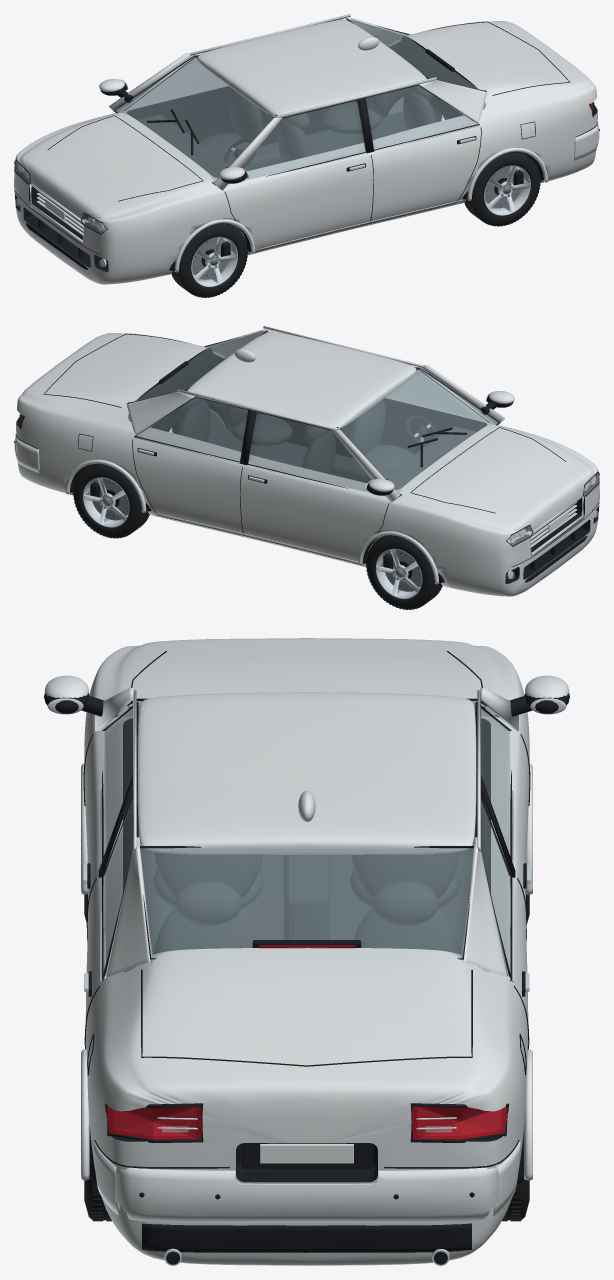
The model's file is sedan.glb.
The picture shows the model from 3 angles, top to bottom: view 1: azimuth 30°, elevation 25°; view 2: azimuth 150°, elevation 25°; view 3: azimuth 270°, elevation 25°; orthographic projection. The views are drawn at different scales.
Visible parts, largest first — view 1: Watertight 14-station body shell, Crowned roof pressing, Raked laminated windshield, Front side door glass, Rear side door glass, 107 reused Sculpted_tyre, 107 reused Sculpted_tyre.002, Sloping rear glass, Front side door glass.001, Instrument panel, Cabin carpet, Surface integrated sedan rear roof pillar (+21 smaller); view 2: Watertight 14-station body shell, Crowned roof pressing, Raked laminated windshield, Front side door glass.001, Rear side door glass.001, 107 reused Sculpted_tyre.001, 107 reused Sculpted_tyre.003, Sloping rear glass, Front side door glass, Instrument panel, Cabin carpet, Surface integrated sedan rear roof pillar.001 (+21 smaller); view 3: Watertight 14-station body shell, Crowned roof pressing, Sloping rear glass, Formed painted rear bumper cover, Sculpted rear lower bumper insert, Cabin carpet, Center console, Contoured seat back, Contoured seat back.001, Surface integrated sedan rear roof pillar.001, Surface integrated sedan rear roof pillar, Contoured seat back.002 (+21 smaller).
Boxes of the visible parts, <box> form: Watertight 14-station body shell: <box>14,21,597,284</box>; Crowned roof pressing: <box>197,20,426,116</box>; Raked laminated windshield: <box>115,56,275,182</box>; Front side door glass: <box>228,100,365,184</box>; Rear side door glass: <box>366,85,477,149</box>; 107 reused Sculpted_tyre: <box>172,223,247,297</box>; 107 reused Sculpted_tyre.002: <box>465,152,539,225</box>; Sloping rear glass: <box>350,20,481,89</box>; Front side door glass.001: <box>127,58,227,109</box>; Instrument panel: <box>137,114,229,177</box>; Cabin carpet: <box>223,112,406,240</box>; Surface integrated sedan rear roof pillar: <box>419,80,487,122</box>; Watertight 14-station body shell: <box>16,333,599,596</box>; Crowned roof pressing: <box>187,332,416,428</box>; Raked laminated windshield: <box>338,368,498,494</box>; Front side door glass.001: <box>248,412,385,496</box>; Rear side door glass.001: <box>136,397,247,461</box>; 107 reused Sculpted_tyre.001: <box>366,535,441,609</box>; 107 reused Sculpted_tyre.003: <box>73,464,148,537</box>; Sloping rear glass: <box>132,332,263,401</box>; Front side door glass: <box>386,370,486,421</box>; Instrument panel: <box>384,426,476,489</box>; Cabin carpet: <box>207,424,390,552</box>; Surface integrated sedan rear roof pillar.001: <box>126,392,194,434</box>; Watertight 14-station body shell: <box>84,638,529,1265</box>; Crowned roof pressing: <box>137,692,476,854</box>; Sloping rear glass: <box>140,848,473,958</box>; Formed painted rear bumper cover: <box>115,1164,498,1222</box>; Sculpted rear lower bumper insert: <box>142,1223,471,1252</box>; Cabin carpet: <box>140,845,473,954</box>; Center console: <box>284,855,329,939</box>; Contoured seat back: <box>154,852,262,898</box>; Contoured seat back.001: <box>351,852,459,898</box>; Surface integrated sedan rear roof pillar.001: <box>461,837,507,976</box>; Surface integrated sedan rear roof pillar: <box>106,837,152,976</box>; Contoured seat back.002: <box>154,908,259,953</box>.
Size of the model in its own units: 4.84 by 1.55 by 2.18.
Materials: 10 (10 with a texture image).
